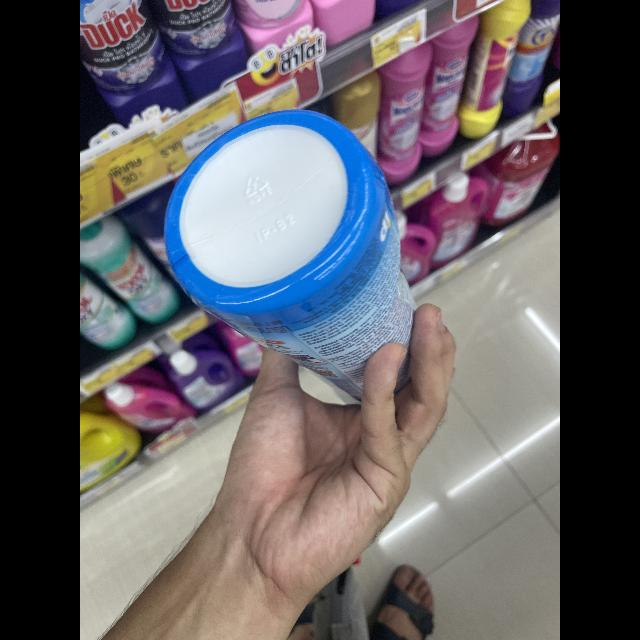chemical_plastic_bottle: (156, 101, 430, 405)
